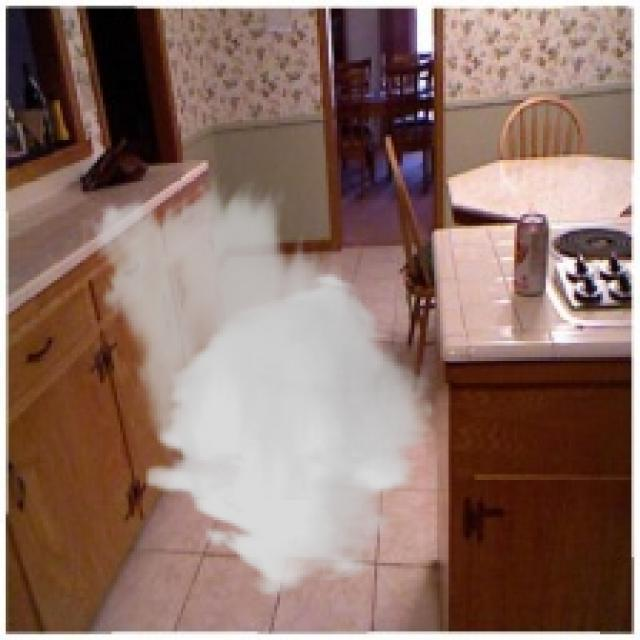Smoke: (80, 174, 432, 597)
